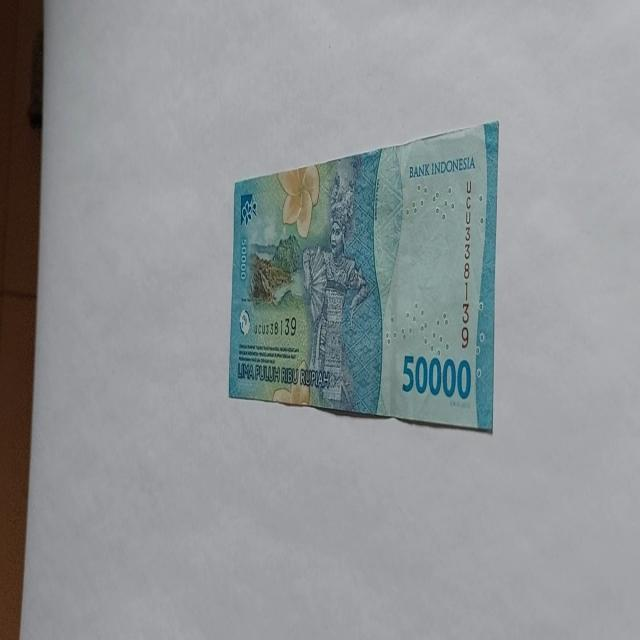lima puluh ribu rupiah: (228, 119, 500, 434)
